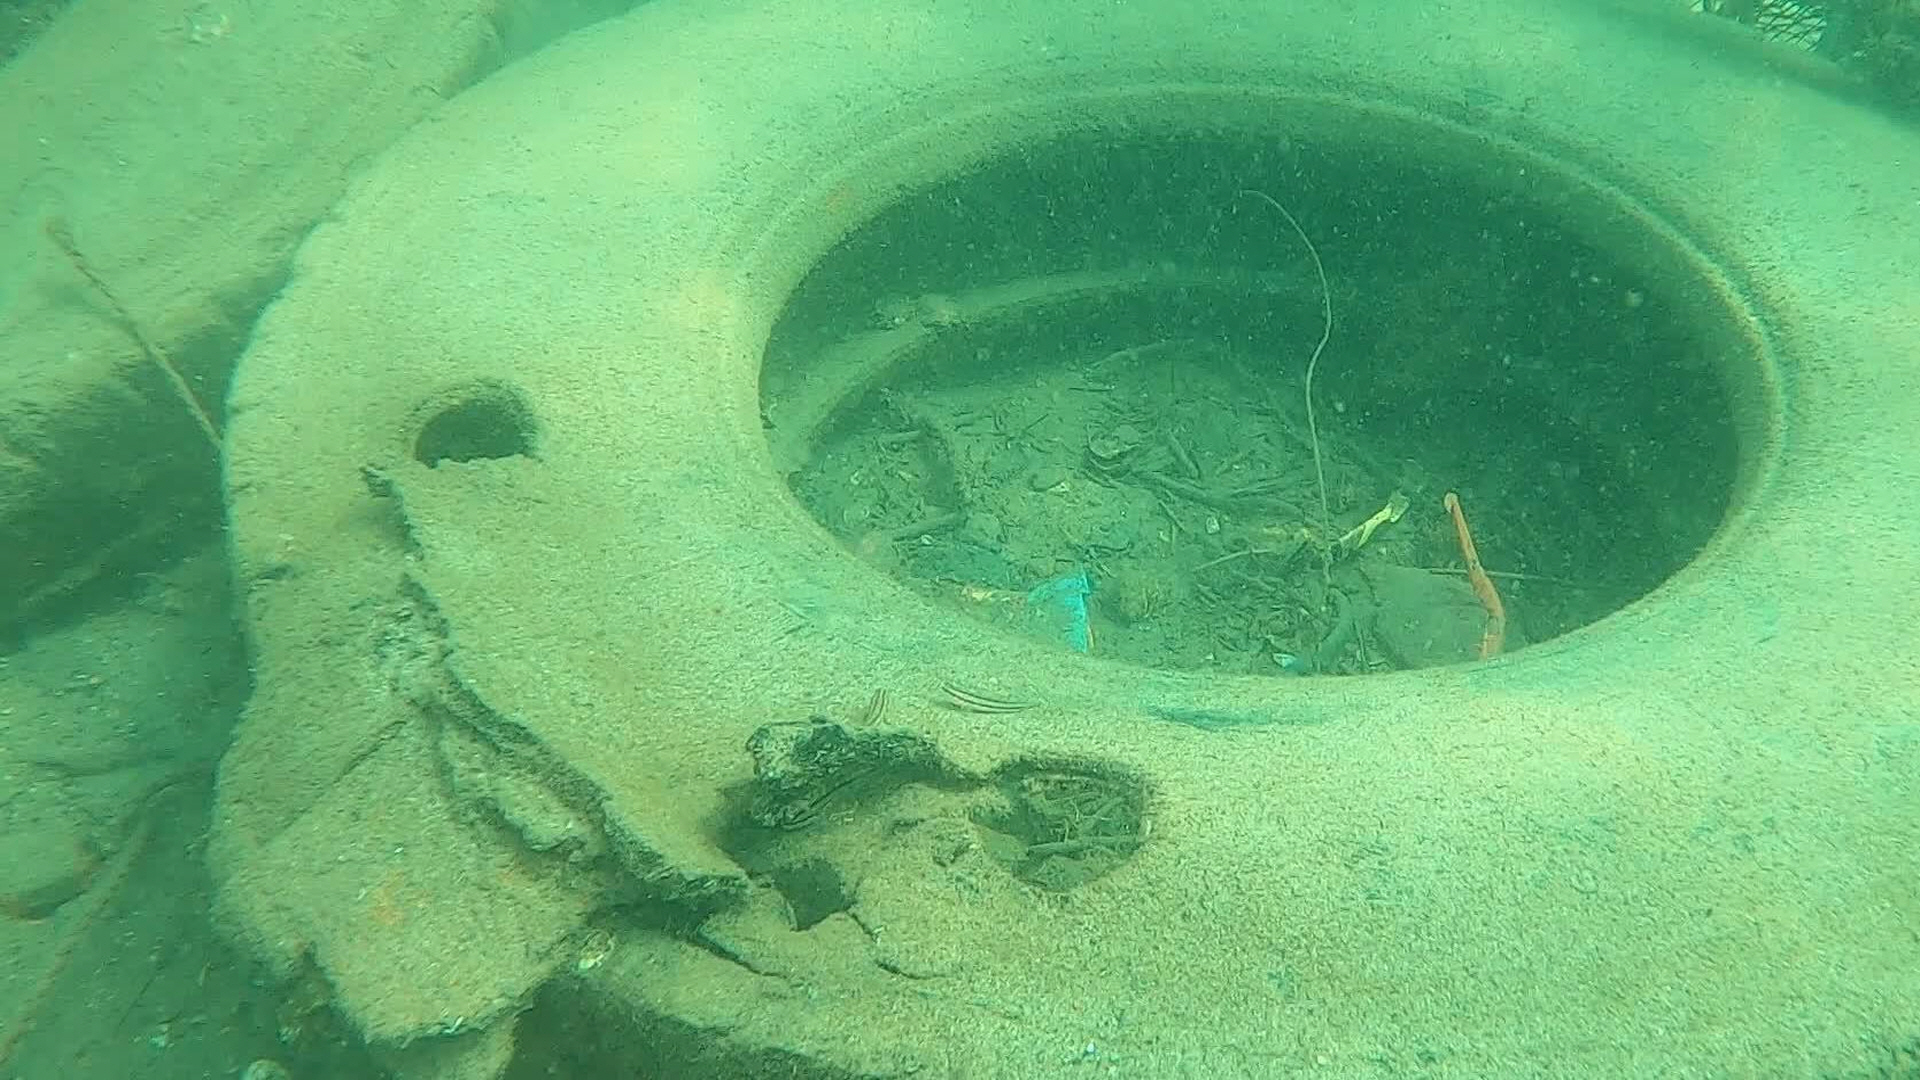tire: (218, 0, 1920, 1080)
